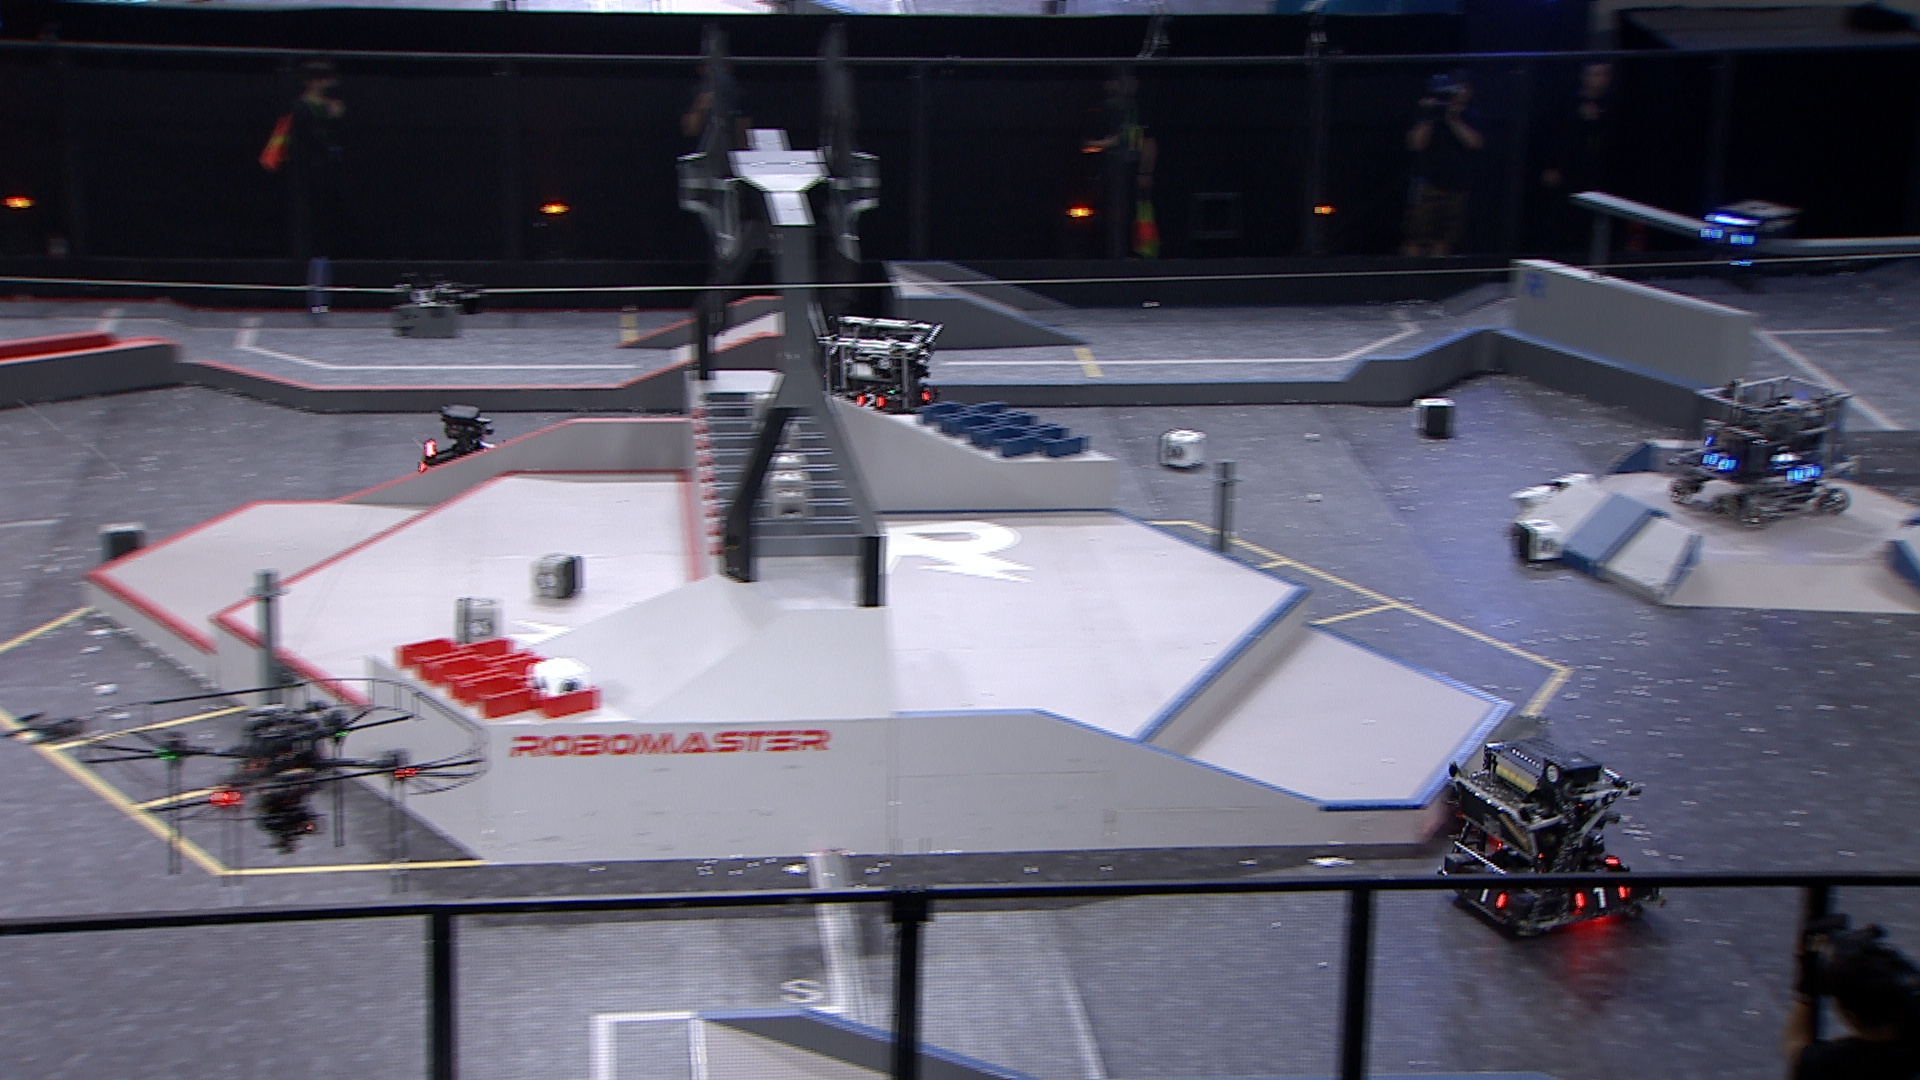armor: (1575, 884, 1629, 911), (1698, 225, 1755, 249), (1698, 450, 1738, 475), (1787, 462, 1822, 488), (1472, 885, 1509, 910), (851, 392, 884, 411)
car: (1437, 738, 1660, 945), (1664, 376, 1855, 527), (808, 313, 940, 442), (415, 406, 526, 496)
watcher: (1695, 202, 1795, 294)
